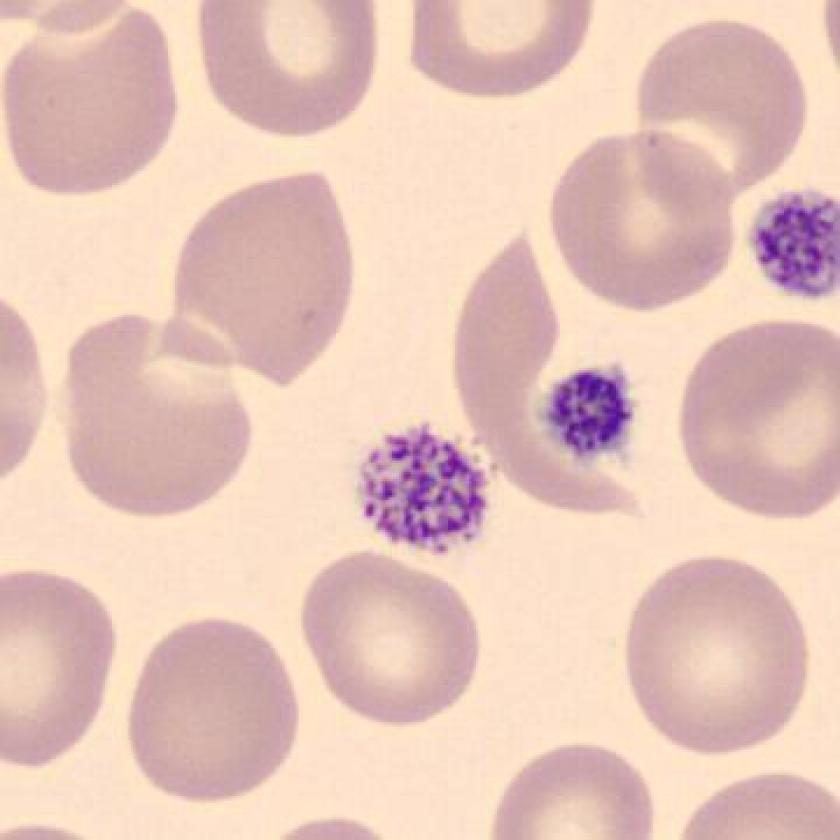platelets: (351, 420, 496, 561), (740, 181, 840, 306), (540, 357, 638, 464)
